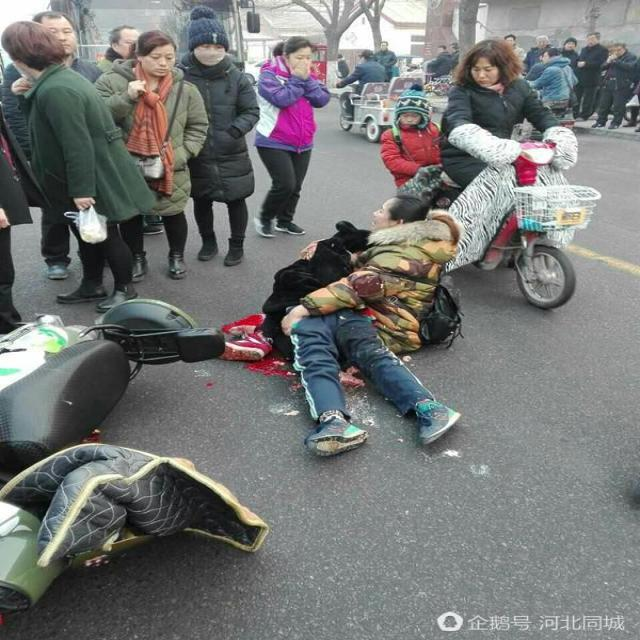10-: (1, 6, 639, 325)
down: (246, 220, 456, 466)
